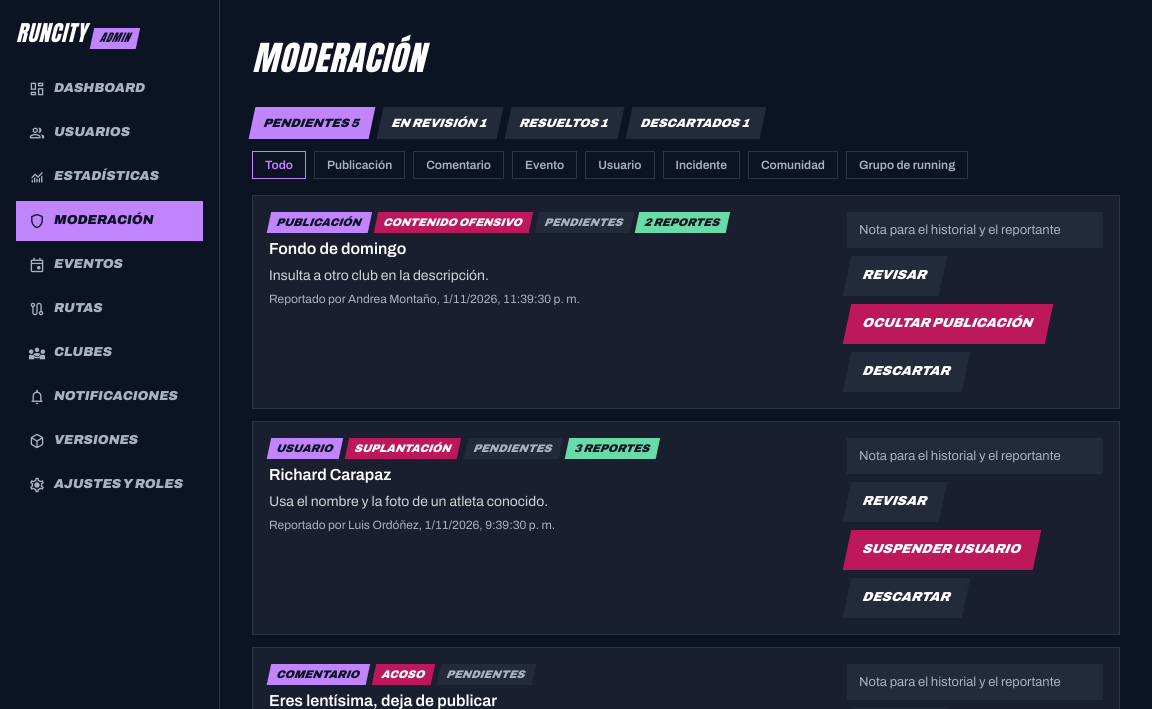
Test: panel de administración › muestra la cola de moderación por tipo en modo demo
The width and height of the screenshot is (1152, 709).
Expected: the text "Richard Carapaz" is shown, x1=269 y1=466 x2=391 y2=482
Step 1. Click the button "Evento" → [545, 165], box x1=512 y1=151 x2=577 y2=179
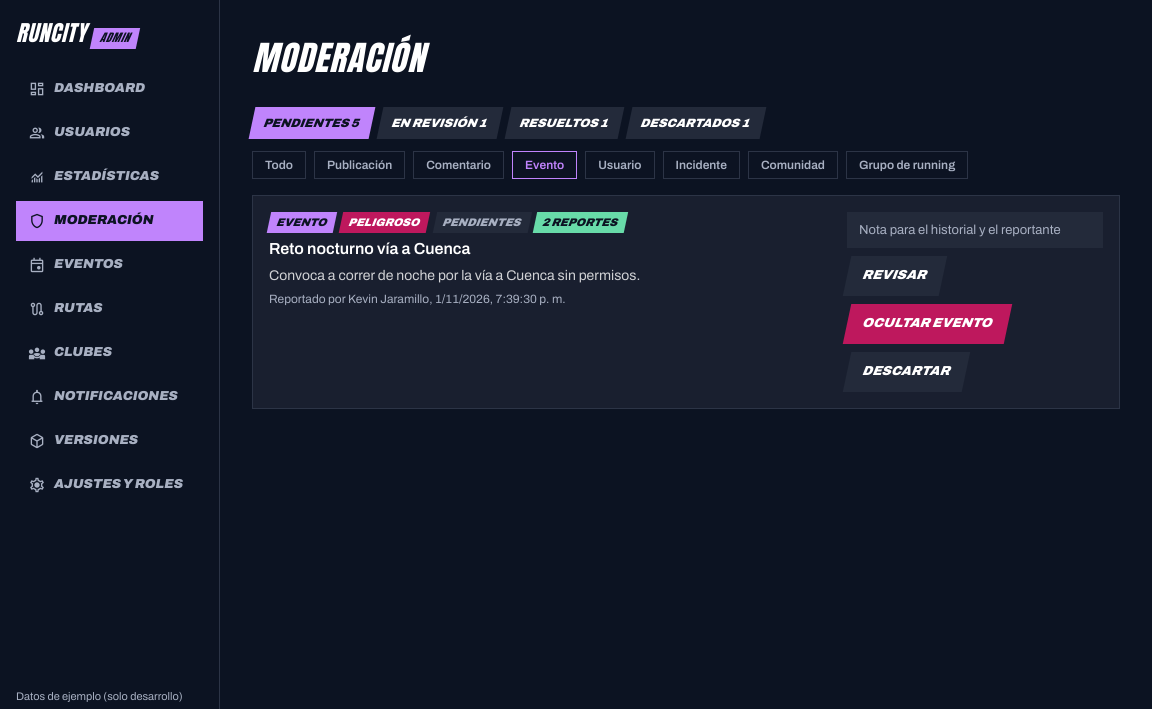
Expected: the text "Reto nocturno vía a Cuenca" is shown, x1=269 y1=240 x2=470 y2=256
Expected: the text "Richard Carapaz" is gone
